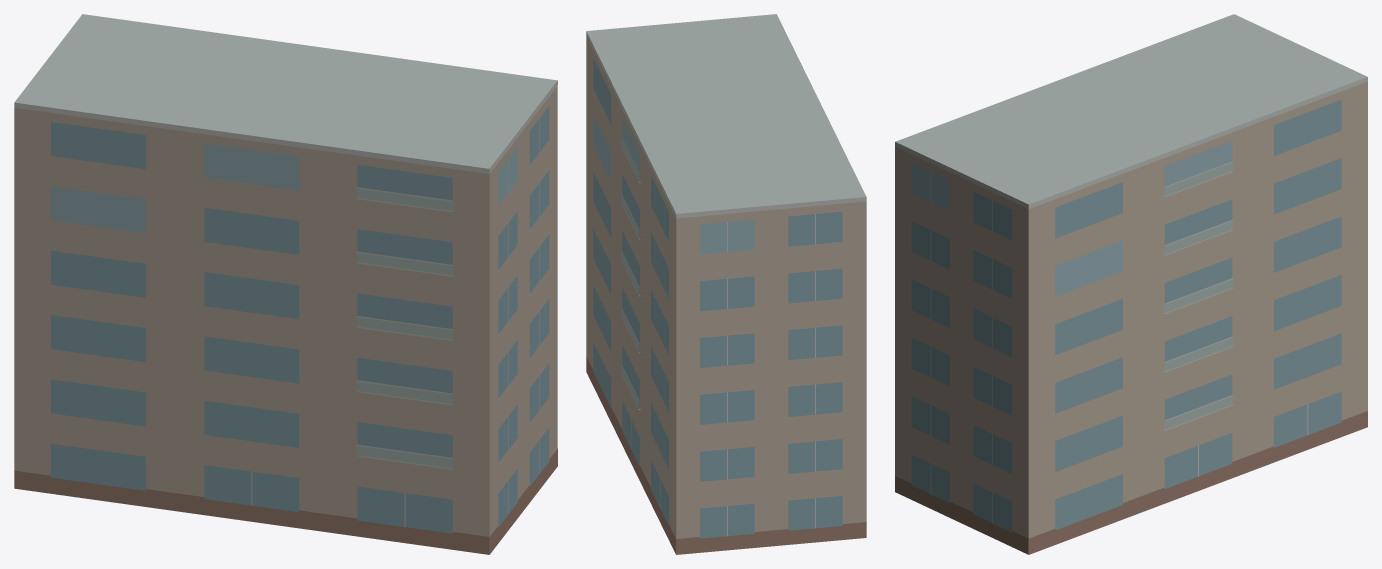
The model's file is survey-upis-33006689.glb.
3 views of the same model, side by side, from view 1: azimuth 30°, elevation 25°; view 2: azimuth 150°, elevation 25°; view 3: azimuth 270°, elevation 25° (orthographic). The views are drawn at different scales.
Parts seen in each view (by area): view 1: survey-upis-33006689.tmp; view 2: survey-upis-33006689.tmp; view 3: survey-upis-33006689.tmp.
Part boxes in pixels (box(x1,y1,x2,y2)): survey-upis-33006689.tmp: box(14, 14, 557, 554); survey-upis-33006689.tmp: box(586, 14, 866, 554); survey-upis-33006689.tmp: box(895, 14, 1367, 554).
Bounding box in the file's own units: 21.36 × 18.3 × 22.39.
